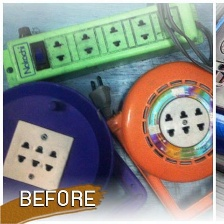three_eye_plug: (0, 0, 200, 88), (0, 95, 104, 211), (121, 59, 216, 179)
